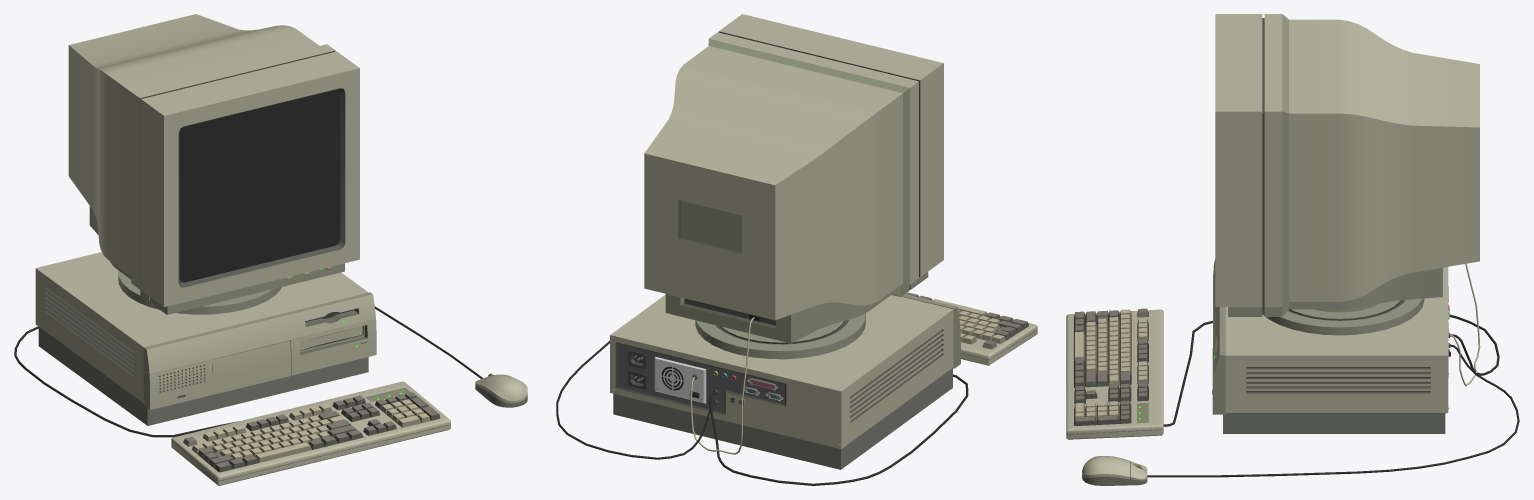
The model's file is old_pc.glb.
3 renders of one model, left to right at view 1: azimuth 30°, elevation 25°; view 2: azimuth 150°, elevation 25°; view 3: azimuth 270°, elevation 25°, orthographic. The views are drawn at different scales.
Parts seen in each view (by area): view 1: Cube.146, Cube.124, Cube, Cube.111, Cube.002, Cube.113, Cube.114, Cube.115, Circle, Cube.126, Cube.007, Cube.175 (+6 smaller); view 2: Cube.146, Cube, Circle, Cube.157, Cube.002, Plane.005, Plane, Cube.132, Plane.004; view 3: Cube.146, Cube, Cube.002, Circle, Cube.126, Plane, Cube.111, Plane.005, Cube.007, Cube.004, Cube.005, Cube.006 (+1 smaller).
Part boxes in pixels (box(x1,y1,x2,y2)): Cube.146: box(68, 14, 359, 314); Cube.124: box(179, 90, 340, 282); Cube: box(35, 252, 368, 425); Cube.111: box(143, 292, 375, 374); Cube.002: box(171, 381, 450, 485); Cube.113: box(212, 340, 290, 394); Cube.114: box(143, 359, 212, 409); Cube.115: box(290, 319, 376, 375); Circle: box(118, 270, 281, 314); Cube.126: box(475, 374, 527, 407); Cube.007: box(191, 415, 320, 453); Cube.175: box(167, 285, 255, 314); Cube.146: box(644, 14, 943, 343); Cube: box(610, 294, 953, 469); Circle: box(695, 313, 865, 359); Cube.157: box(654, 356, 706, 403); Cube.002: box(906, 293, 1037, 365); Plane.005: box(709, 374, 968, 485); Plane: box(556, 340, 715, 459); Cube.132: box(628, 350, 646, 389); Plane.004: box(690, 317, 754, 454); Cube.146: box(1215, 14, 1479, 316); Cube: box(1223, 267, 1448, 433); Cube.002: box(1066, 309, 1163, 439); Circle: box(1262, 298, 1424, 335); Cube.126: box(1082, 456, 1147, 485); Plane: box(1147, 344, 1519, 477); Cube.111: box(1213, 259, 1225, 378); Plane.005: box(1163, 314, 1499, 426); Cube.007: box(1120, 309, 1131, 376); Cube.004: box(1108, 317, 1119, 378); Cube.005: box(1097, 318, 1108, 375); Cube.006: box(1085, 321, 1096, 373).
Bounding box in the file's own units: 7.64 × 6.52 × 8.38.
